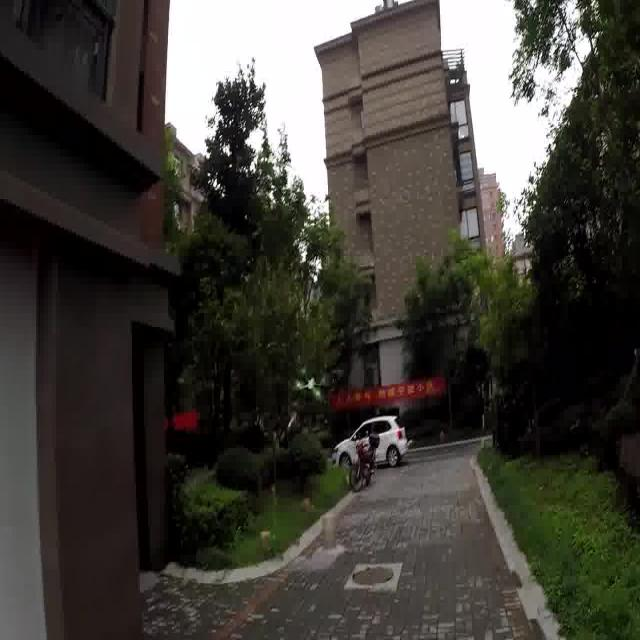drones: (288, 358, 336, 409)
